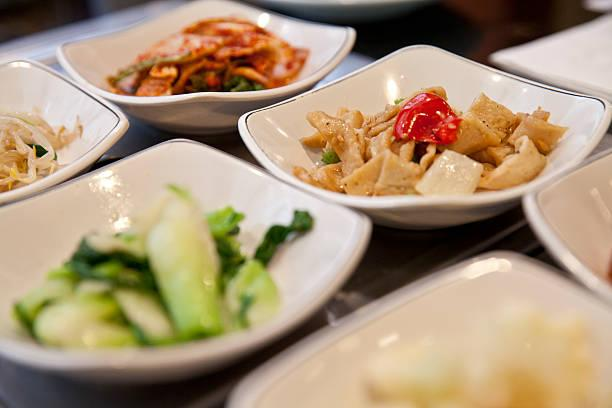Braised Crucian Carp: (0, 166, 332, 360), (234, 52, 612, 207), (56, 4, 353, 109)
